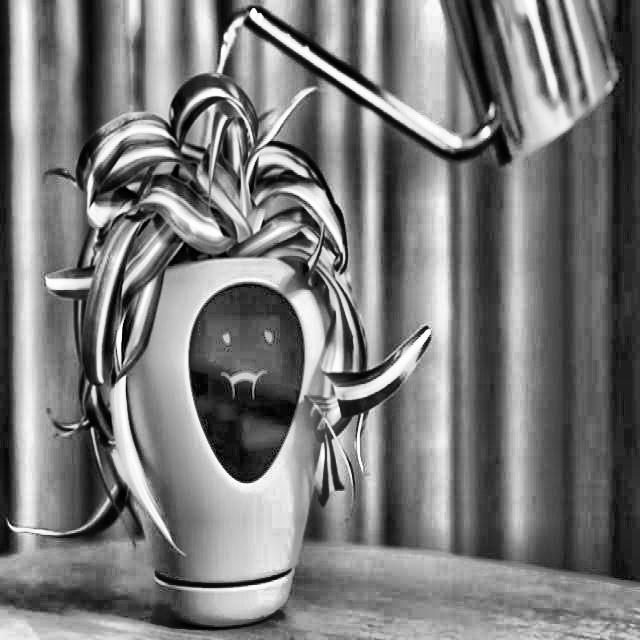plants: (62, 79, 388, 622)
